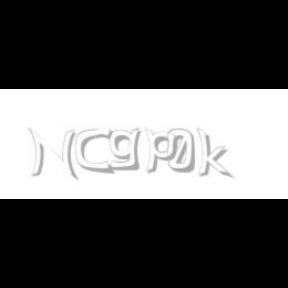0: (168, 128, 198, 174)
C: (76, 128, 112, 174)
N: (28, 128, 76, 180)
g: (108, 128, 144, 171)
k: (196, 128, 234, 180)
p: (144, 128, 181, 174)
